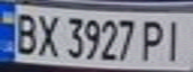2: (100, 16, 121, 62)
3: (60, 12, 84, 60)
7: (115, 16, 142, 62)
9: (81, 15, 103, 61)
B: (9, 8, 42, 56)
I: (160, 16, 190, 63)
P: (139, 16, 169, 63)
X: (33, 10, 63, 57)
